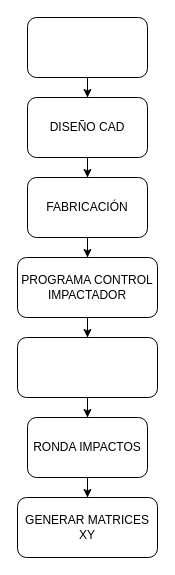
Some shapes in this 175 by 575 pixel diagram are drawn without their labels. Here are the shapes that lost their labels. From the top down, the centre of each, then its label:
At (x=87, y=47): "LOAD DATA".
At (x=87, y=367): "PROGRAMA ALMACENAMIENTO IMPACTOS".
